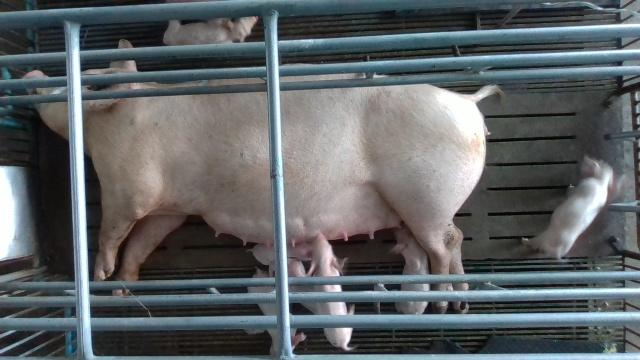piglet: (521, 154, 615, 263), (305, 233, 356, 352), (247, 266, 306, 355), (392, 227, 431, 314), (160, 15, 258, 45), (245, 241, 314, 264)
sow-sleep-lactate: (19, 40, 502, 314)
